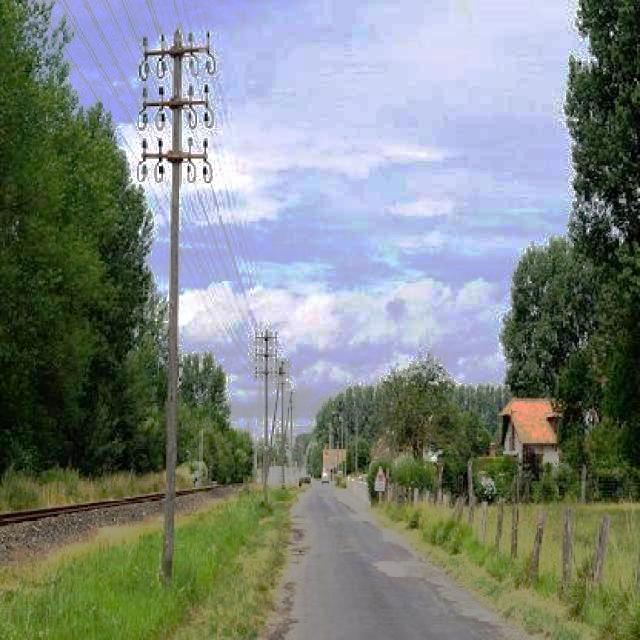poles: (129, 28, 226, 554)
wires: (46, 8, 195, 132), (186, 185, 266, 380)
